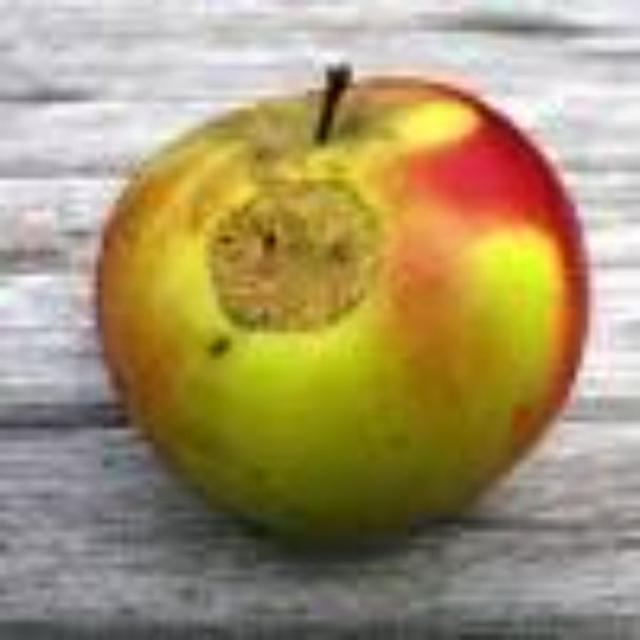Rotten Apple: (110, 30, 576, 608)
